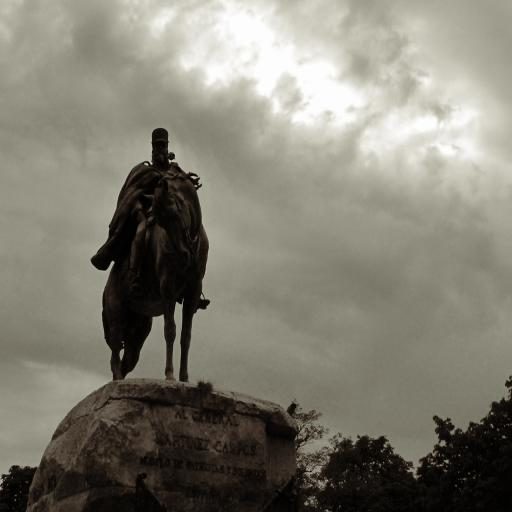horse: (102, 158, 210, 382)
